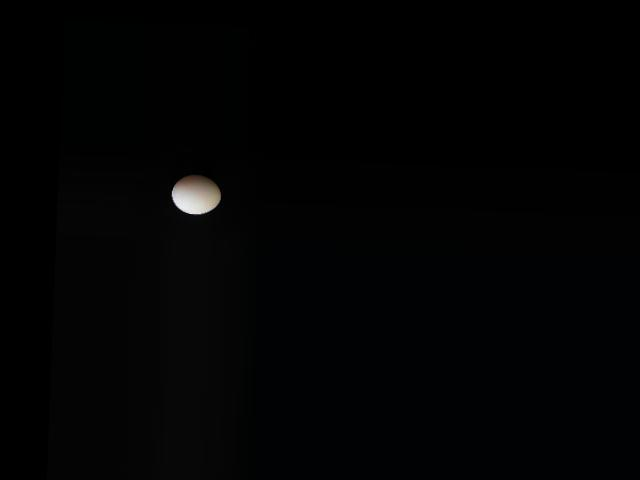egg: (172, 173, 222, 215)
